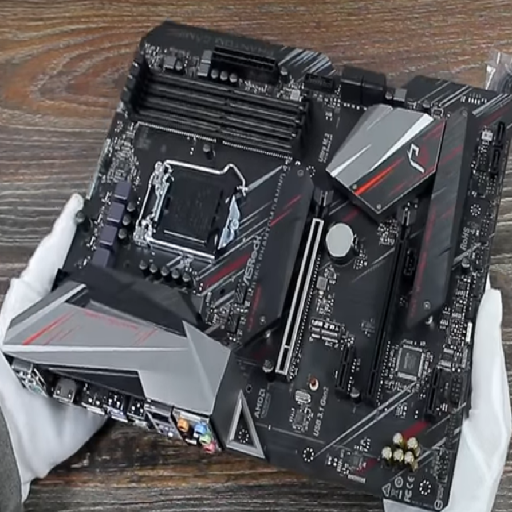CPU: (130, 150, 251, 274)
GPU: (350, 202, 428, 405), (261, 184, 340, 381)
MOTHERBOARD: (10, 11, 512, 504)
RAM: (115, 55, 318, 162)
